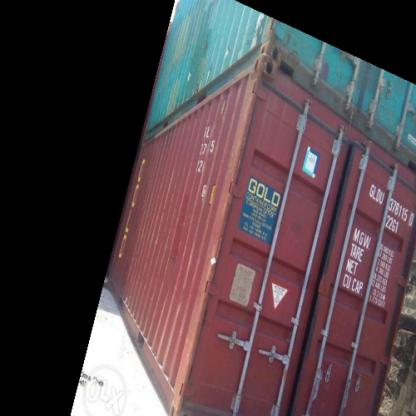Damage: (223, 58, 269, 197), (196, 195, 235, 296)
